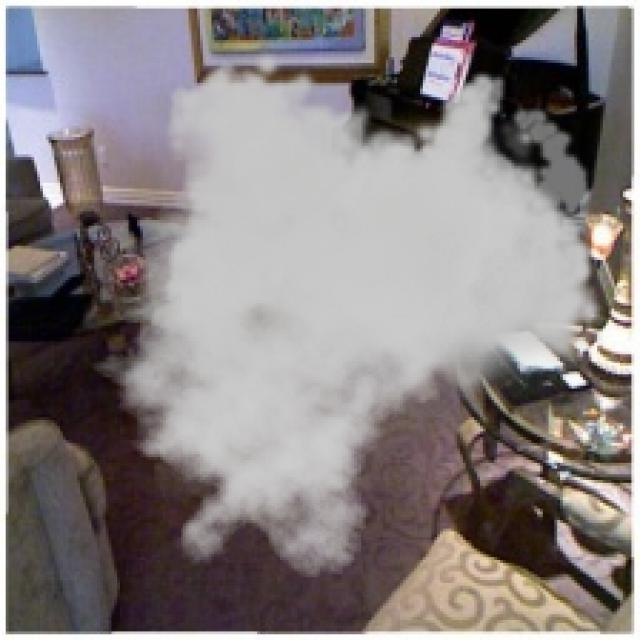smoke: (74, 49, 606, 580)
